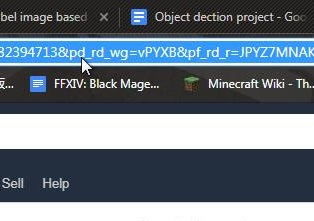cursor: (79, 55, 94, 77)
